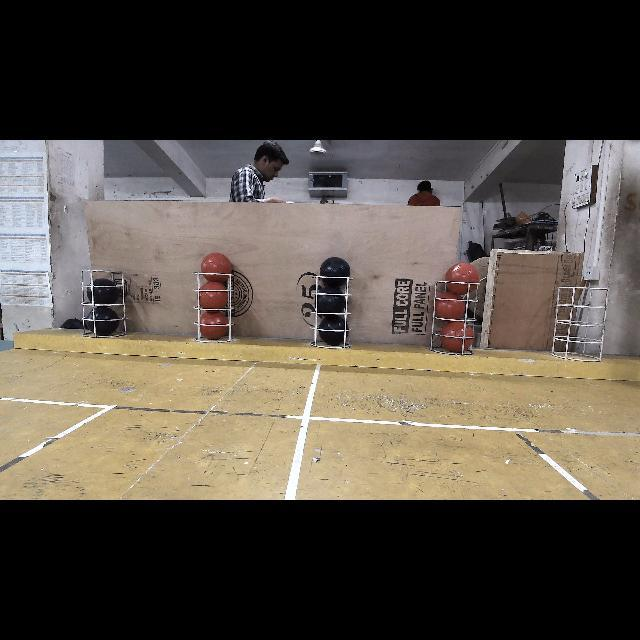P: (320, 256, 350, 286), (86, 308, 118, 336), (319, 317, 349, 345), (316, 288, 346, 316), (88, 281, 119, 305)
R: (445, 262, 480, 295), (444, 320, 474, 352), (201, 252, 232, 282), (434, 294, 466, 320), (198, 282, 230, 308), (200, 312, 230, 338)
S: (554, 283, 608, 359), (432, 280, 481, 354), (80, 266, 128, 338), (195, 270, 238, 348), (310, 272, 350, 348)
